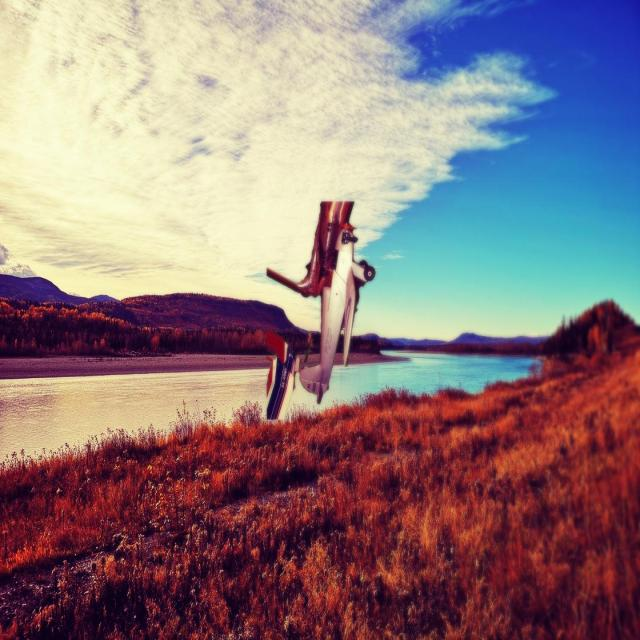airplane: (263, 198, 376, 420)
